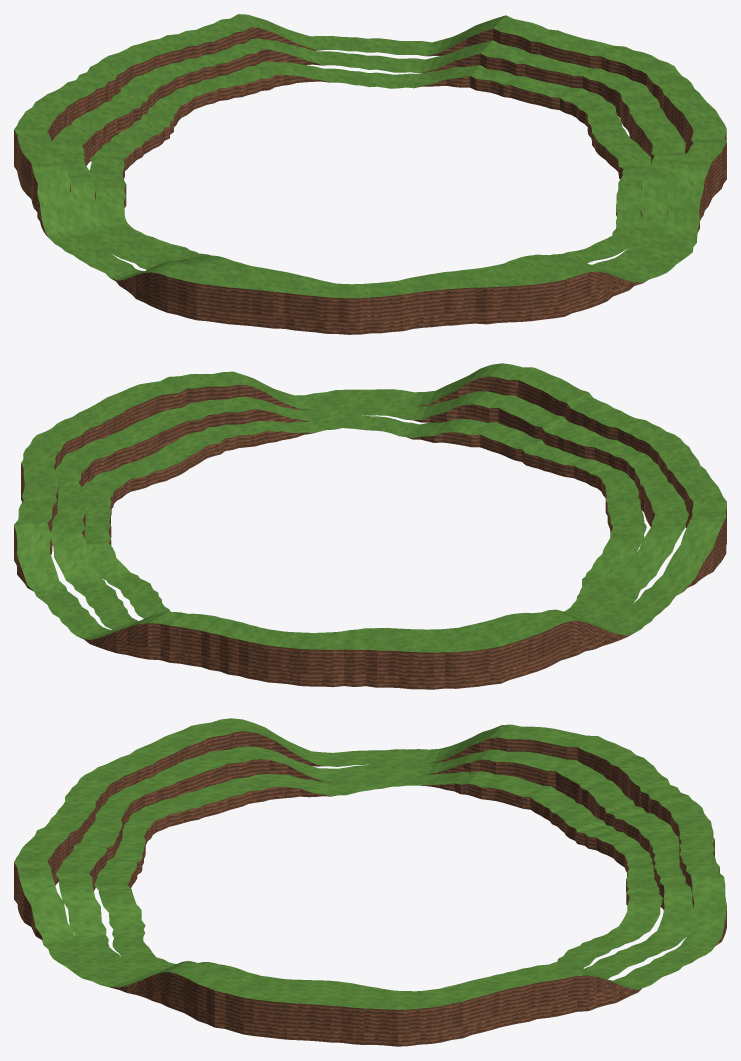
The model's file is rim.glb.
The picture shows the model from 3 angles, top to bottom: view 1: azimuth 30°, elevation 25°; view 2: azimuth 150°, elevation 25°; view 3: azimuth 270°, elevation 25°; orthographic projection.
Parts seen in each view (by area): view 1: PitRim; view 2: PitRim; view 3: PitRim.
Part boxes in pixels (x1=…): PitRim: x1=14, y1=14, x2=726, y2=334; PitRim: x1=14, y1=363, x2=726, y2=689; PitRim: x1=14, y1=718, x2=726, y2=1046.
Size of the model in its own units: 147 by 8.52 by 149.
Materials: 2 (2 with a texture image).
